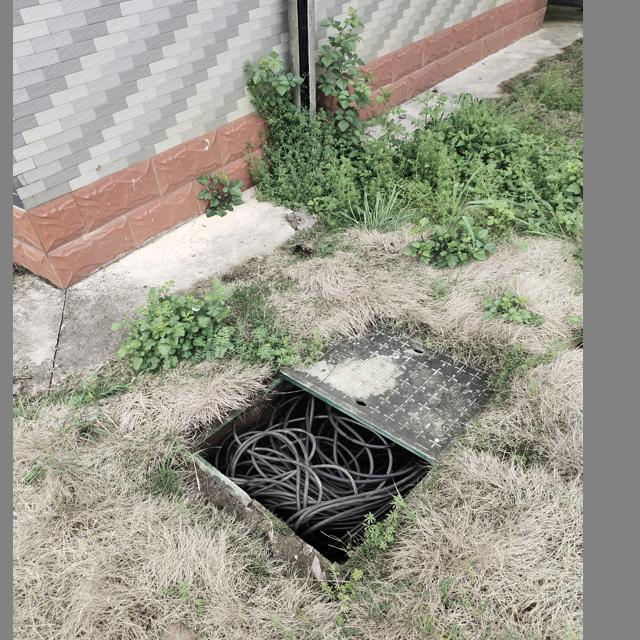lose: (185, 370, 436, 568)
